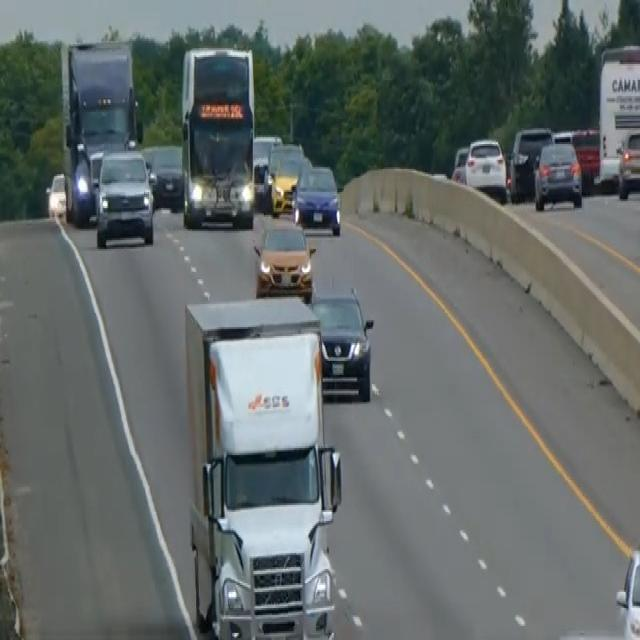bus: (179, 43, 256, 229)
car: (308, 284, 374, 402), (94, 146, 155, 247), (253, 215, 315, 301), (291, 162, 341, 234), (533, 138, 583, 210), (508, 125, 552, 199), (552, 124, 600, 190), (266, 144, 309, 213), (463, 135, 507, 201), (147, 144, 183, 210), (615, 544, 639, 638), (616, 125, 639, 199), (45, 170, 67, 218), (450, 142, 468, 183)
lorry: (182, 292, 344, 638), (58, 37, 144, 224)
